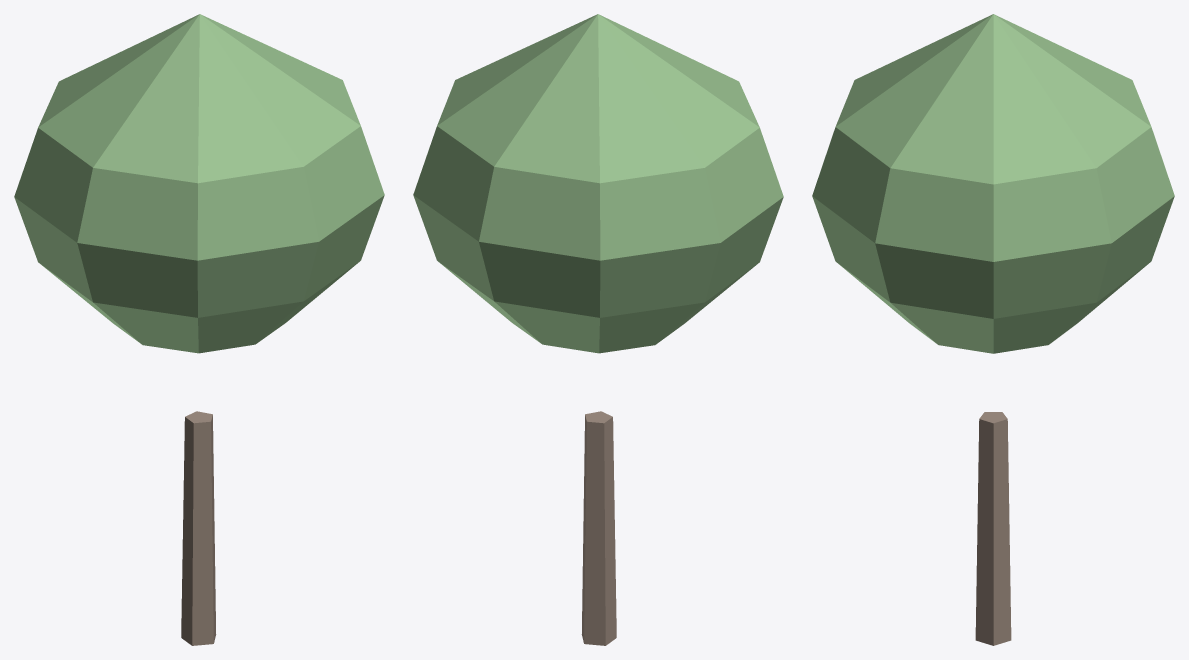
The model's file is tree-broadleaf-c-far.glb.
3 views of the same model, side by side, from view 1: azimuth 30°, elevation 25°; view 2: azimuth 150°, elevation 25°; view 3: azimuth 270°, elevation 25° (orthographic).
Visible parts, largest first — view 1: tree-broadleaf-c-far; view 2: tree-broadleaf-c-far; view 3: tree-broadleaf-c-far.
Boxes of the visible parts, bbox=[...] form: tree-broadleaf-c-far: bbox=[14, 14, 384, 645]; tree-broadleaf-c-far: bbox=[413, 14, 783, 645]; tree-broadleaf-c-far: bbox=[812, 14, 1174, 645].
Size of the model in its own units: 0.533 by 1 by 0.5268.
